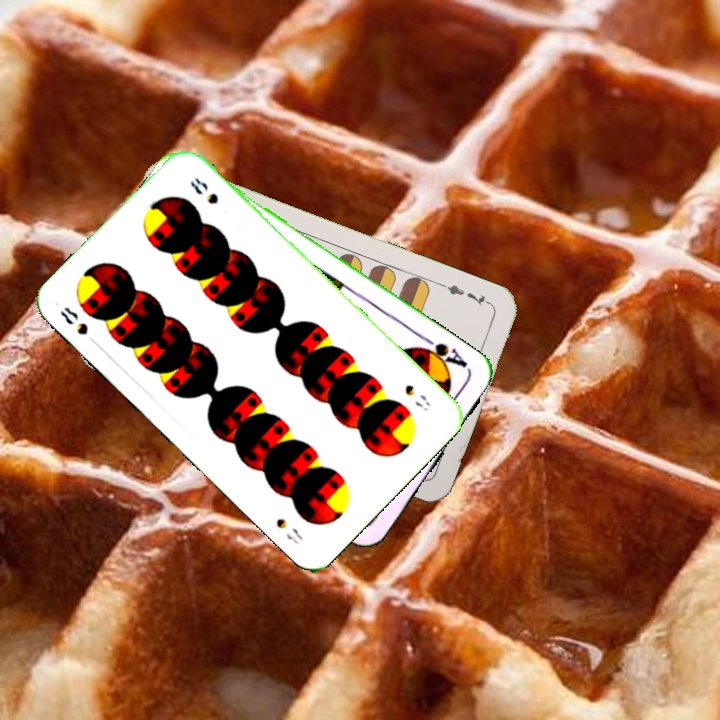E7: (437, 279, 494, 308)
S8: (56, 302, 101, 349), (401, 380, 434, 414)
SA: (413, 332, 470, 373)
